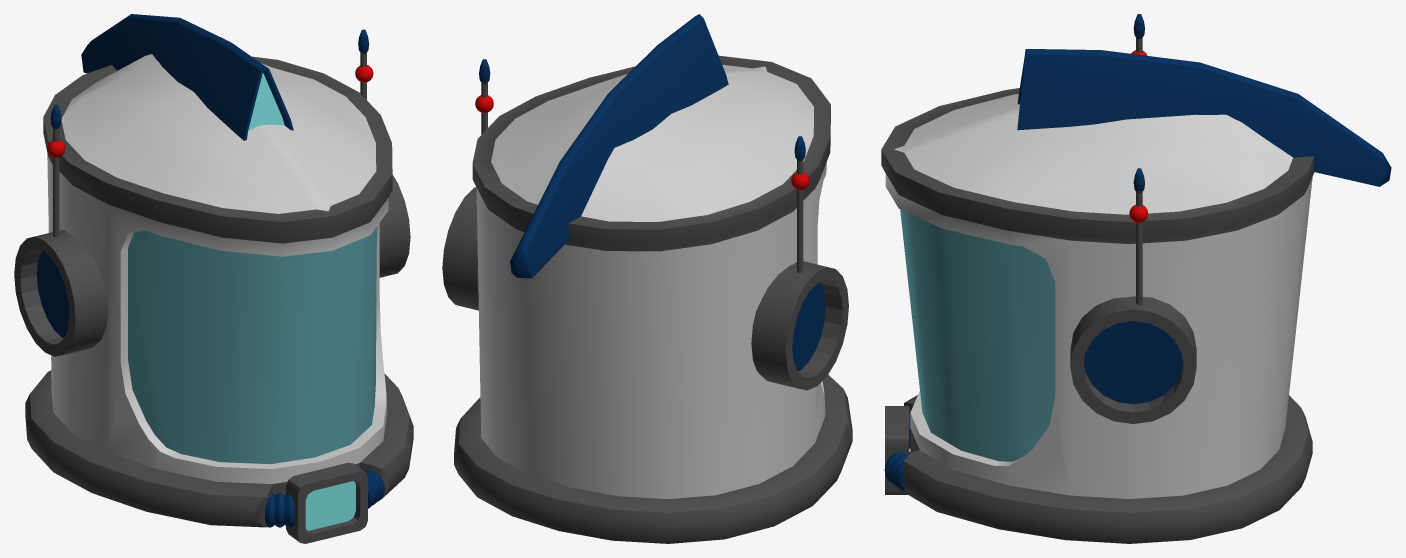
The model's file is Helmet_B.fbx.
3 views of the same model, side by side, from view 1: azimuth 30°, elevation 25°; view 2: azimuth 150°, elevation 25°; view 3: azimuth 270°, elevation 25° (orthographic). The views are drawn at different scales.
Parts seen in each view (by area): view 1: pCylinder88, pCube115, pCylinder90, pCube116, pCylinder89, pCylinder94, pCylinder92, pCylinder93; view 2: pCylinder88, pCube115, pCylinder90, pCylinder89, pCylinder92; view 3: pCylinder88, pCube115, pCylinder89, pCube116, pCylinder91.
Boxes of the visible parts, x1,y1,x2,y2 form: pCylinder88: (25, 54, 413, 527); pCube115: (81, 14, 293, 140); pCylinder90: (14, 230, 108, 356); pCube116: (286, 462, 367, 543); pCylinder89: (379, 175, 410, 277); pCylinder94: (265, 492, 294, 527); pCylinder92: (50, 104, 61, 237); pCylinder93: (363, 470, 384, 508); pCylinder88: (454, 55, 852, 543); pCube115: (510, 14, 728, 278); pCylinder90: (751, 261, 848, 390); pCylinder89: (442, 187, 478, 310); pCylinder92: (794, 136, 805, 272); pCylinder88: (881, 88, 1314, 543); pCube115: (1017, 49, 1391, 186); pCylinder89: (1070, 296, 1196, 423); pCube116: (885, 406, 909, 494); pCylinder91: (1133, 168, 1144, 304).
Bounding box in the file's own units: 1.54 × 1.97 × 1.84.
